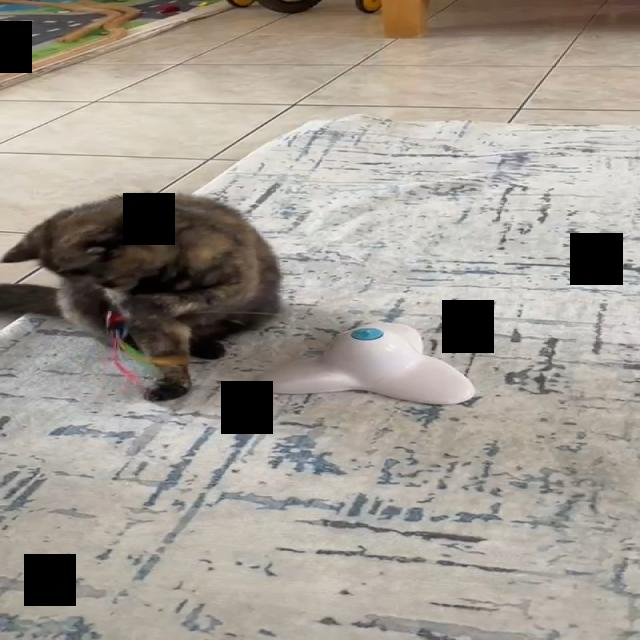authorized: (0, 191, 283, 401)
